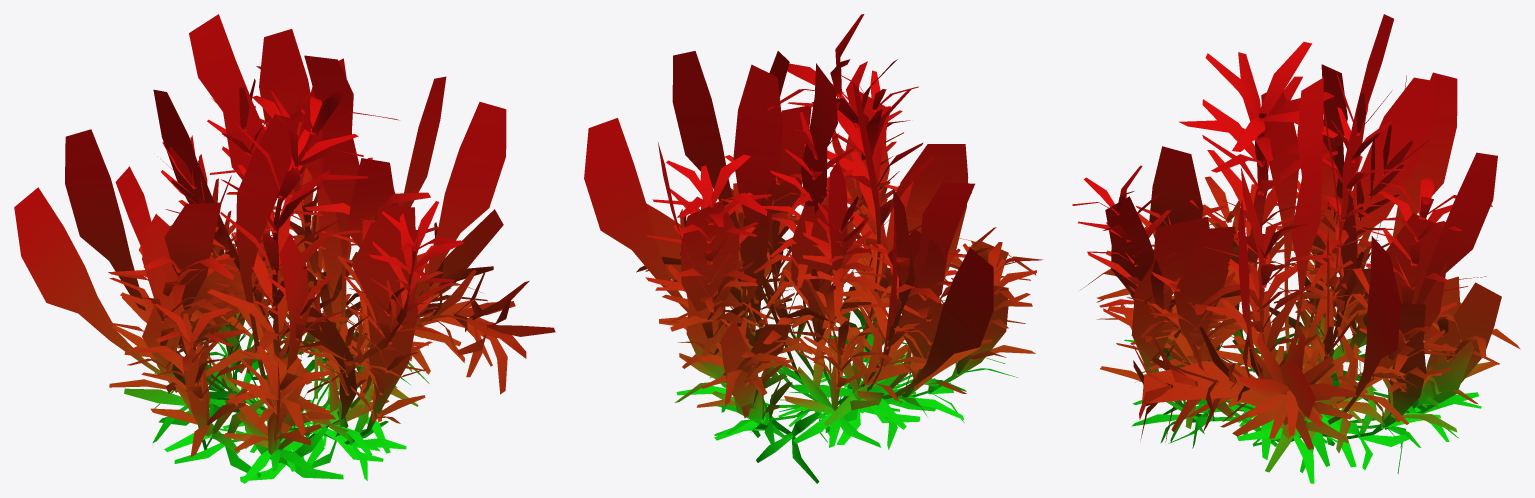
File: Var6_LOD5.fbx
3 views of the same model, side by side, from view 1: azimuth 30°, elevation 25°; view 2: azimuth 150°, elevation 25°; view 3: azimuth 270°, elevation 25° (orthographic). The views are drawn at different scales.
Visible parts, largest first — view 1: _5fns_Var6_LOD5; view 2: _5fns_Var6_LOD5; view 3: _5fns_Var6_LOD5.
Part boxes in pixels (x1,y1,x2,y2): _5fns_Var6_LOD5: [14, 14, 555, 483]; _5fns_Var6_LOD5: [584, 14, 1043, 483]; _5fns_Var6_LOD5: [1072, 14, 1520, 483].
Size of the model in its own units: 33.3 by 30.28 by 28.02.
